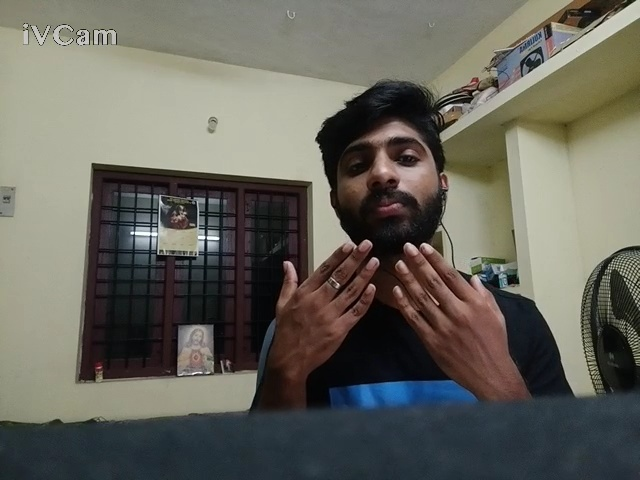Thank You: (245, 195, 529, 480)
